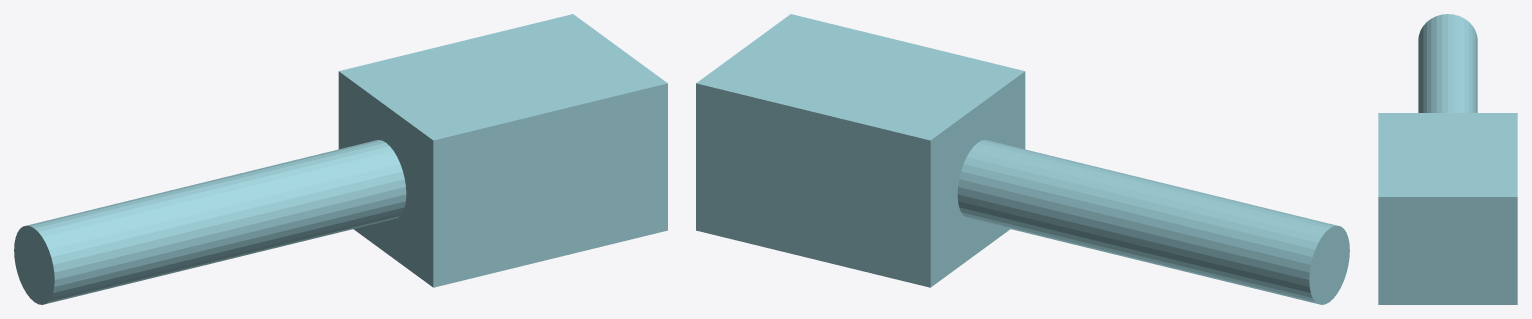
The model's file is primitive_sideways_brush.obj.
3 renders of one model, left to right at view 1: azimuth 30°, elevation 25°; view 2: azimuth 150°, elevation 25°; view 3: azimuth 270°, elevation 25°, orthographic. The views are drawn at different scales.
Bounding box in the file's own units: 0.25 × 0.06 × 0.07.
1 material, 1 textured.
